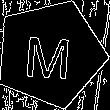M_N: (25, 27, 76, 80)
